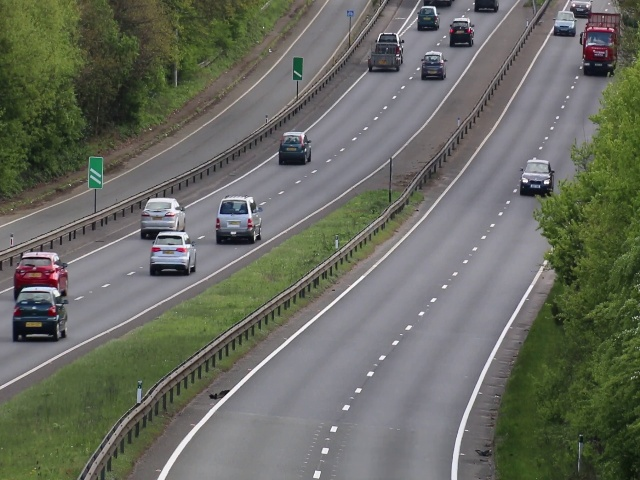car: (11, 286, 69, 343), (213, 196, 262, 240), (149, 231, 197, 275), (13, 251, 70, 287), (139, 195, 186, 233), (582, 28, 616, 74), (370, 31, 404, 72), (518, 156, 552, 194), (278, 130, 312, 165), (419, 50, 448, 80), (450, 17, 473, 46), (552, 10, 577, 35), (416, 4, 440, 28)
